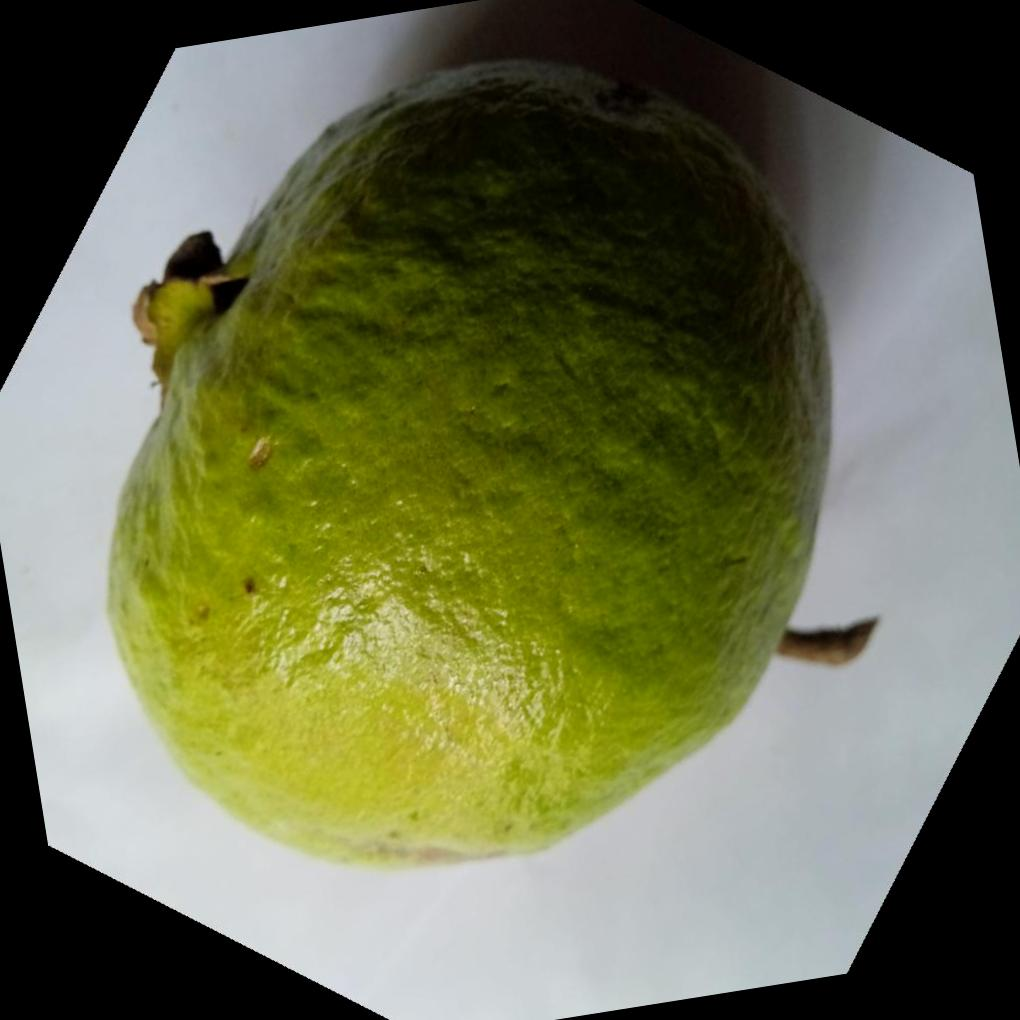FreshGuava: (102, 50, 835, 870)
